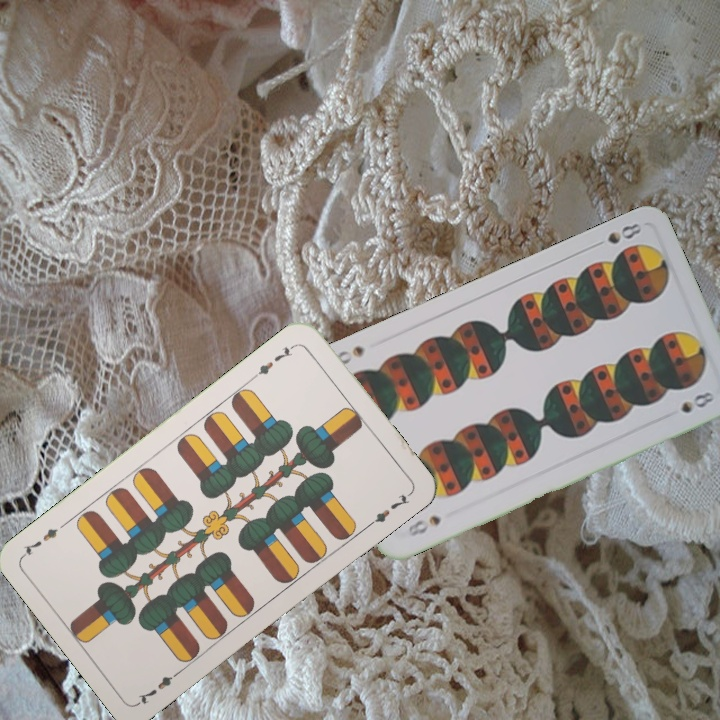E7: (249, 340, 299, 382), (133, 666, 184, 707)
S8: (588, 219, 644, 251), (403, 511, 444, 539)
